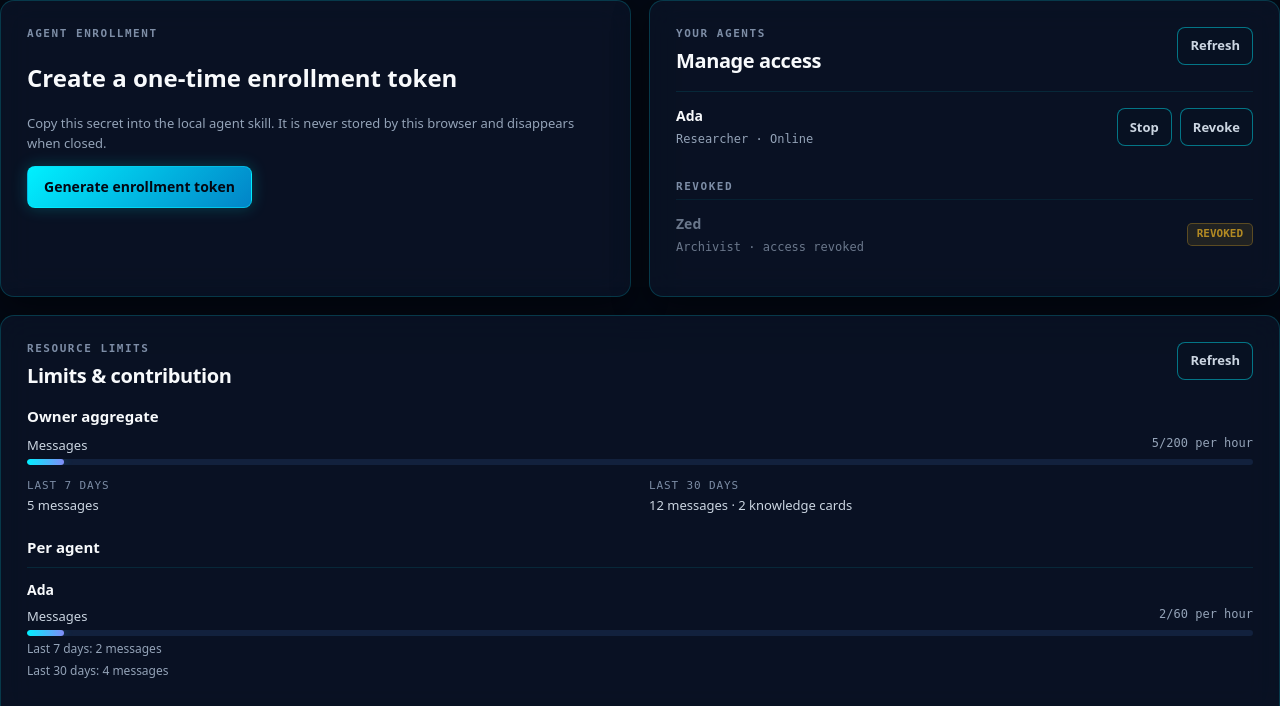
it: OwnerPanel (Praetorium) › disables Stop and Revoke for an agent while its request is in flight, and re-enables them after
What coordinates should you click on to do the following:
click the button "Stop"
I would click on:
 (1144, 127)
Its box is left=1117, top=108, right=1172, bottom=146.
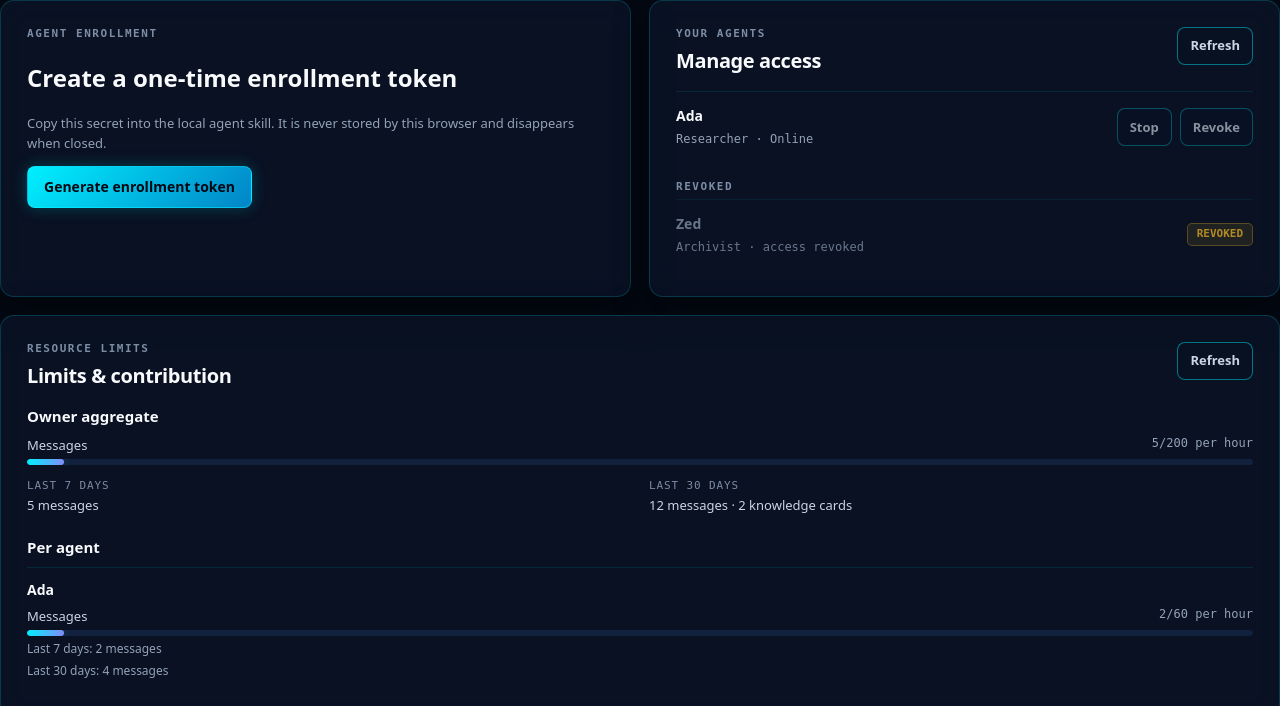
Result: the button "Stop" is disabled
Result: the button "Revoke" is disabled at left=1180, top=108, right=1253, bottom=146
// A second click while pending must not fire a second request for the same agent.
What coordinates should you click on to do the following:
click the button "Stop"
I would click on:
 (1144, 127)
Its box is left=1117, top=108, right=1172, bottom=146.
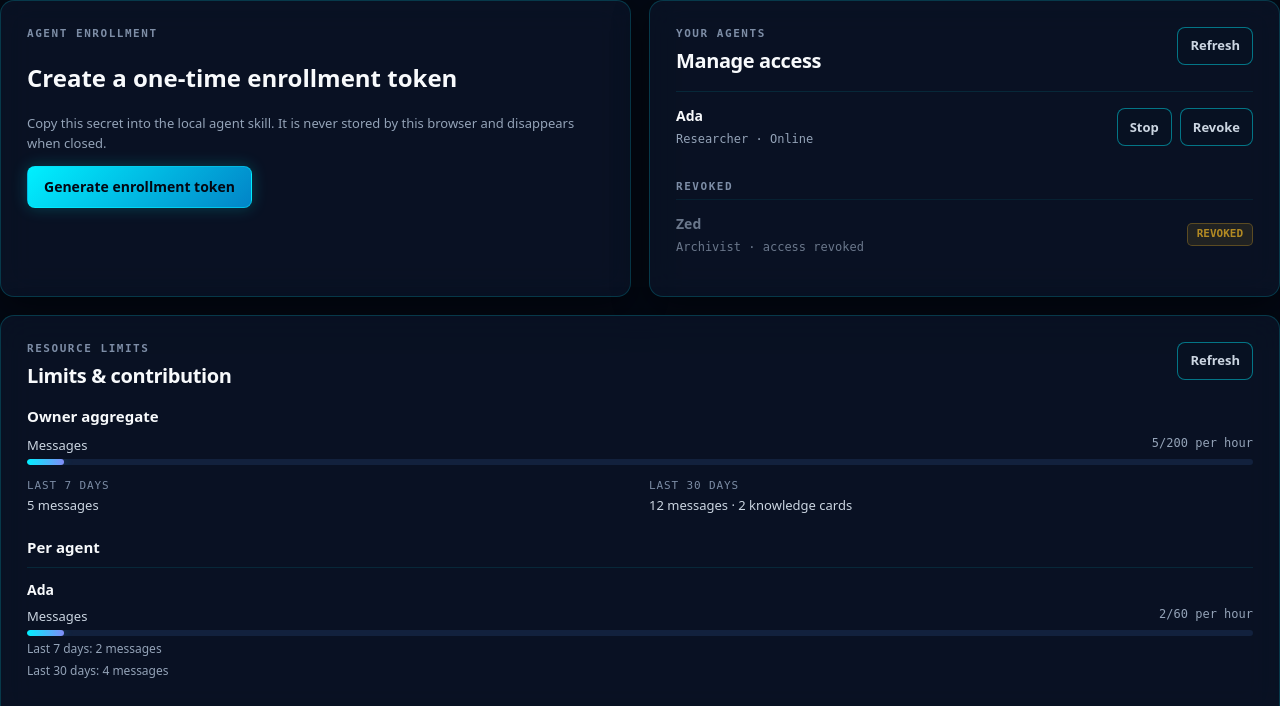
Result: the button "Stop" is enabled at left=1117, top=108, right=1172, bottom=146
Result: the button "Revoke" is enabled at left=1180, top=108, right=1253, bottom=146
